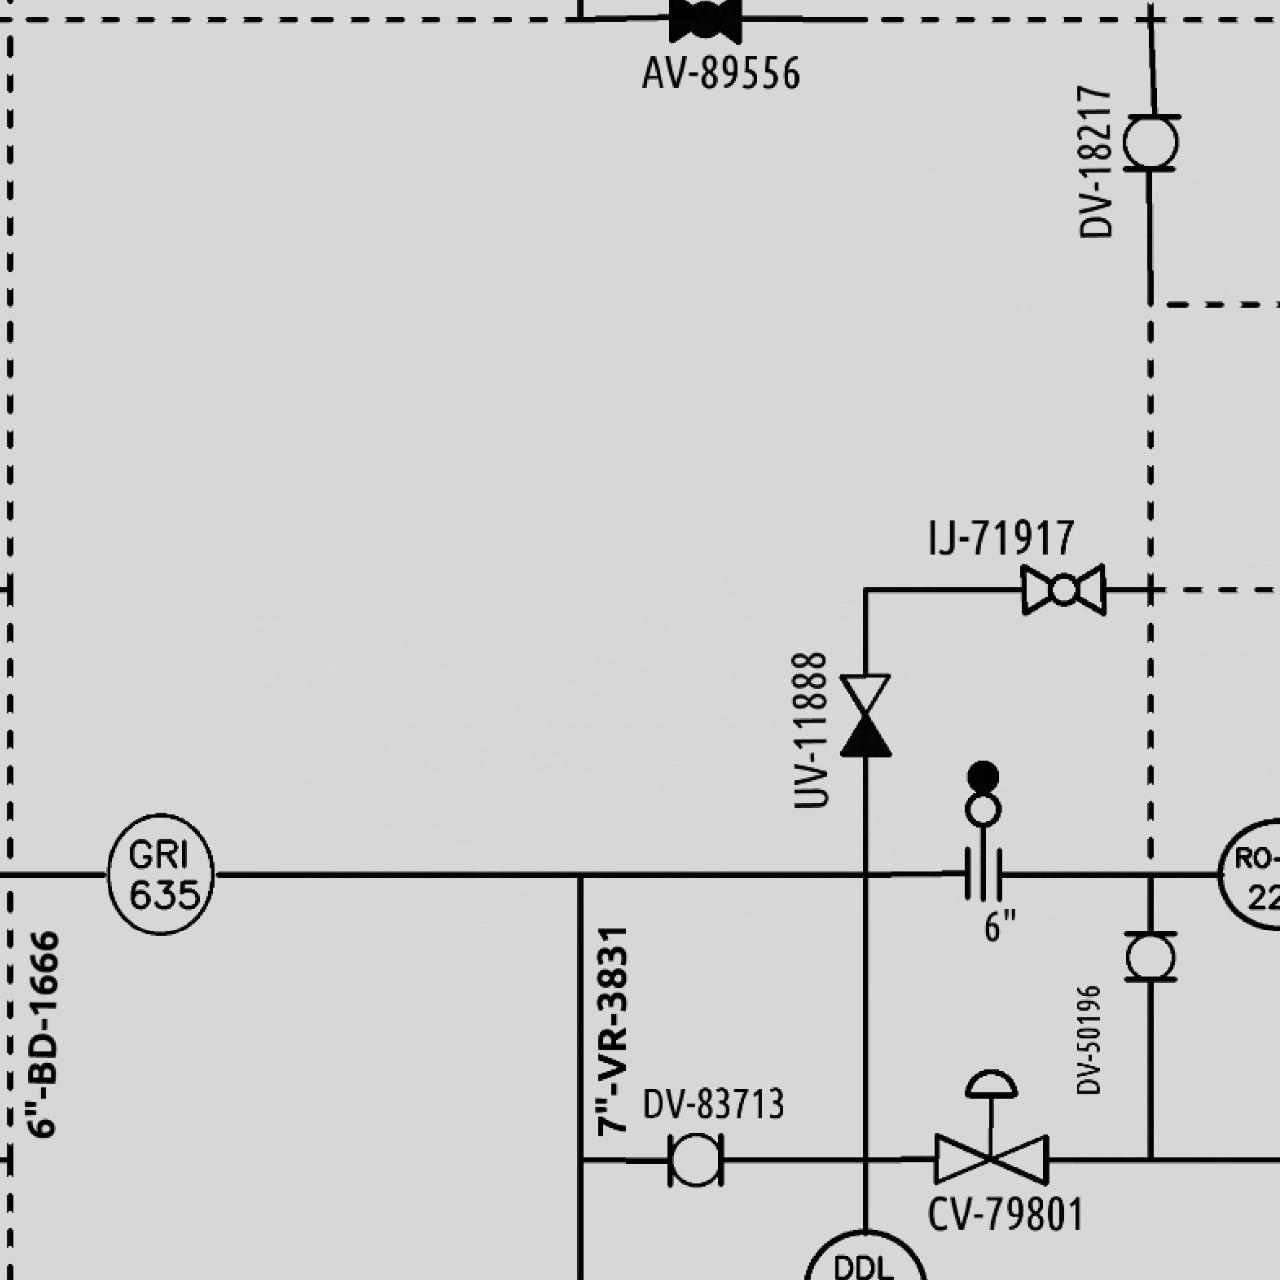Half closed valve: (835, 668, 894, 760)
